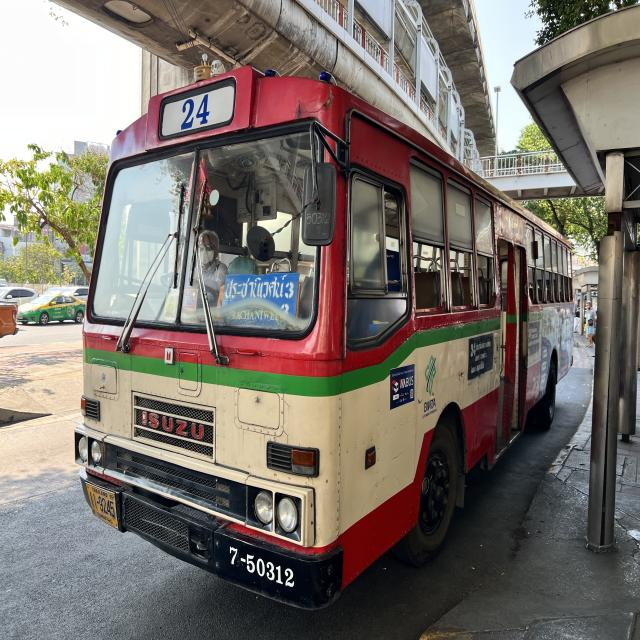BMTA-bus: (72, 68, 574, 611)
Bus-Line-Number: (154, 75, 237, 142)
Destination-Sign-Normal: (220, 272, 300, 330)
